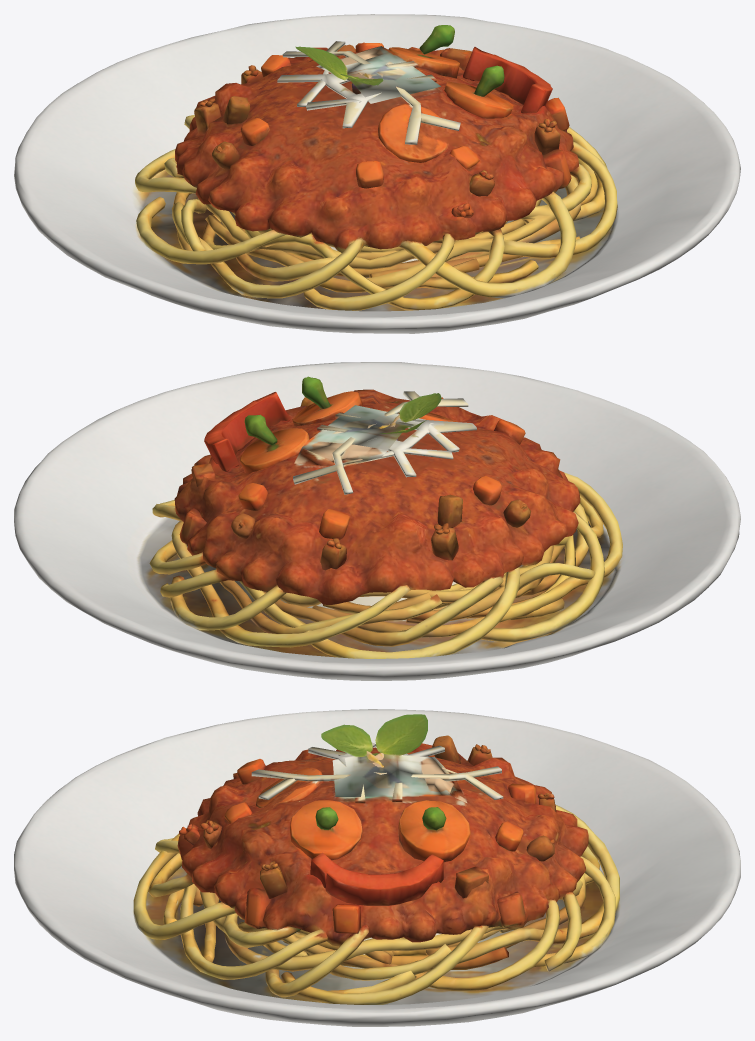
Rendered from inf_spaghetti_bolognese.fbx.
3 renders of one model, top to bottom at view 1: azimuth 30°, elevation 25°; view 2: azimuth 150°, elevation 25°; view 3: azimuth 270°, elevation 25°, orthographic.
Visible parts, largest first — view 1: meshes[0]; view 2: meshes[0]; view 3: meshes[0].
Part boxes in pixels (bbox=[...]): meshes[0]: bbox=[14, 14, 740, 333]; meshes[0]: bbox=[14, 362, 740, 680]; meshes[0]: bbox=[14, 709, 740, 1026].
Bounding box in the file's own units: 99.8 × 26.37 × 99.8.
Materials: 1 (1 with a texture image).
